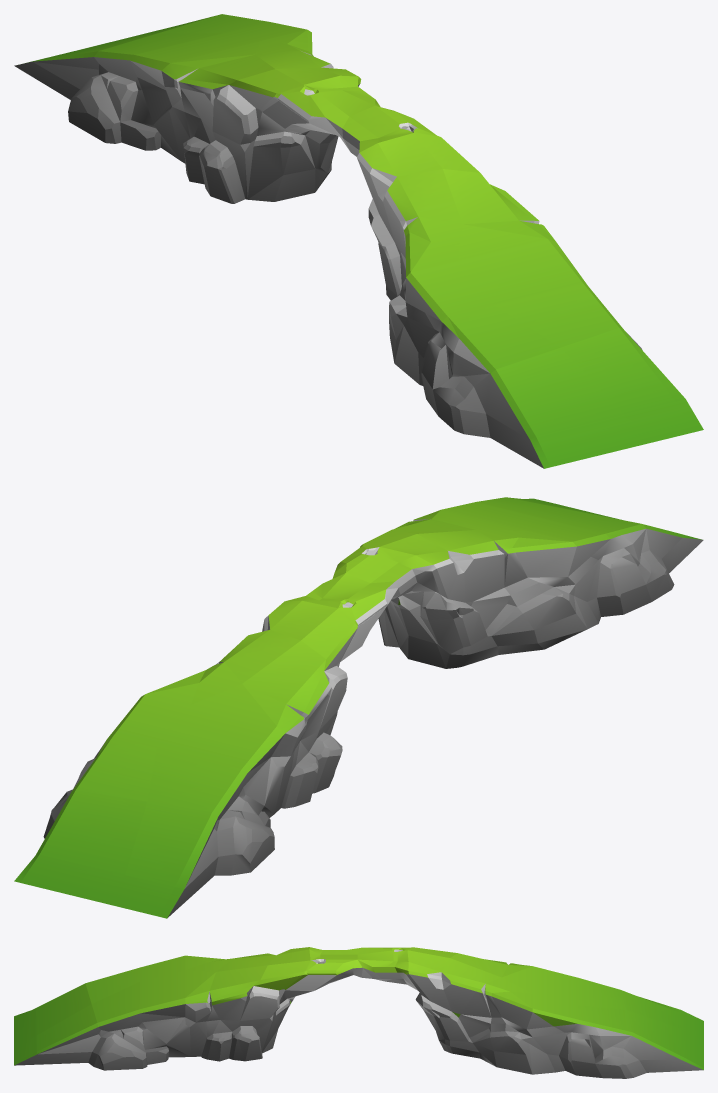
The model's file is Terrain_Cliff_Bridge.fbx.
3 views of the same model, one above another, from view 1: azimuth 30°, elevation 25°; view 2: azimuth 150°, elevation 25°; view 3: azimuth 270°, elevation 25° (orthographic). The views are drawn at different scales.
Visible parts, largest first — view 1: Terrain_Cliff_Bridge; view 2: Terrain_Cliff_Bridge; view 3: Terrain_Cliff_Bridge.
Part boxes in pixels (x1,y1,x2,y2): Terrain_Cliff_Bridge: (14,14,703,468); Terrain_Cliff_Bridge: (14,497,703,918); Terrain_Cliff_Bridge: (14,947,703,1078).
Bounding box in the file's own units: 0.3541 × 0.204 × 1.45.
